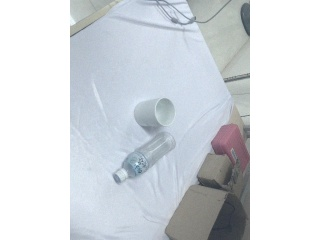bottle: (112, 131, 176, 184)
box: (166, 185, 247, 240)
cup: (133, 97, 176, 127)
